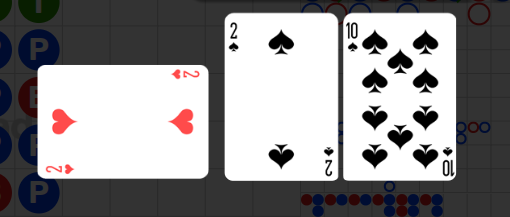10S: (441, 144, 455, 177)
2H: (45, 162, 76, 174)
2S: (322, 144, 335, 177)
